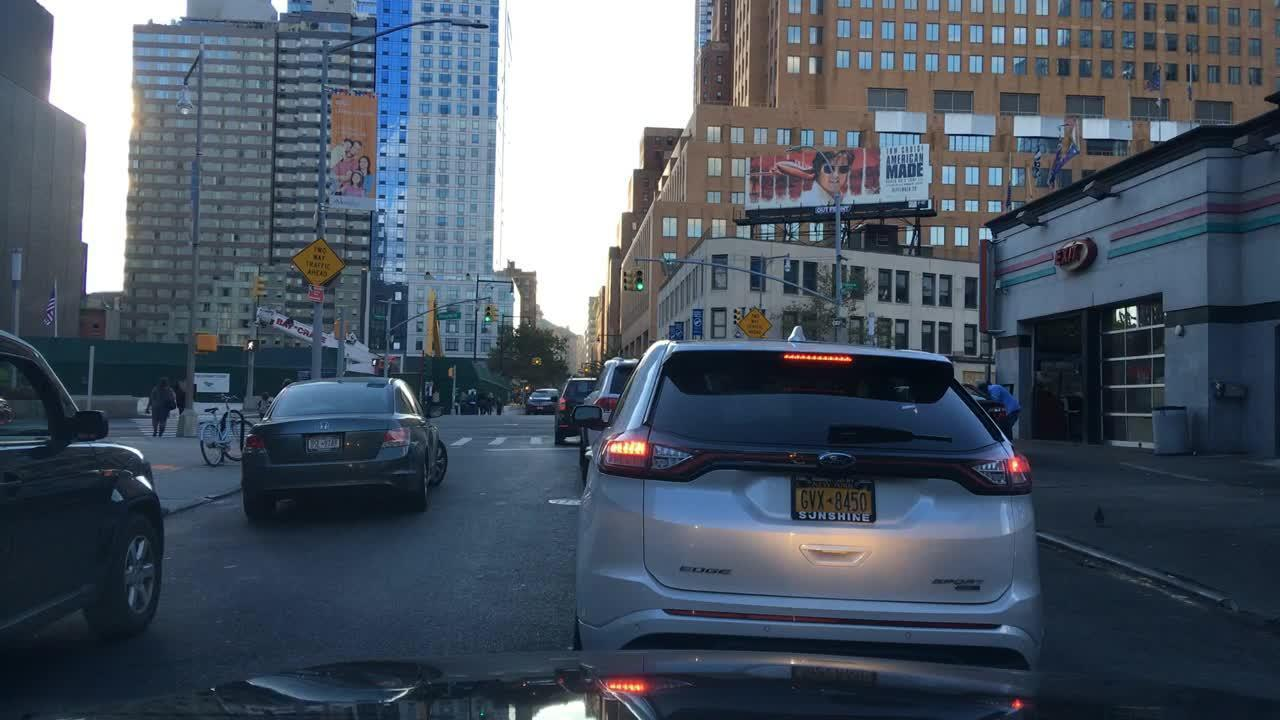ford: (815, 447, 858, 470)
